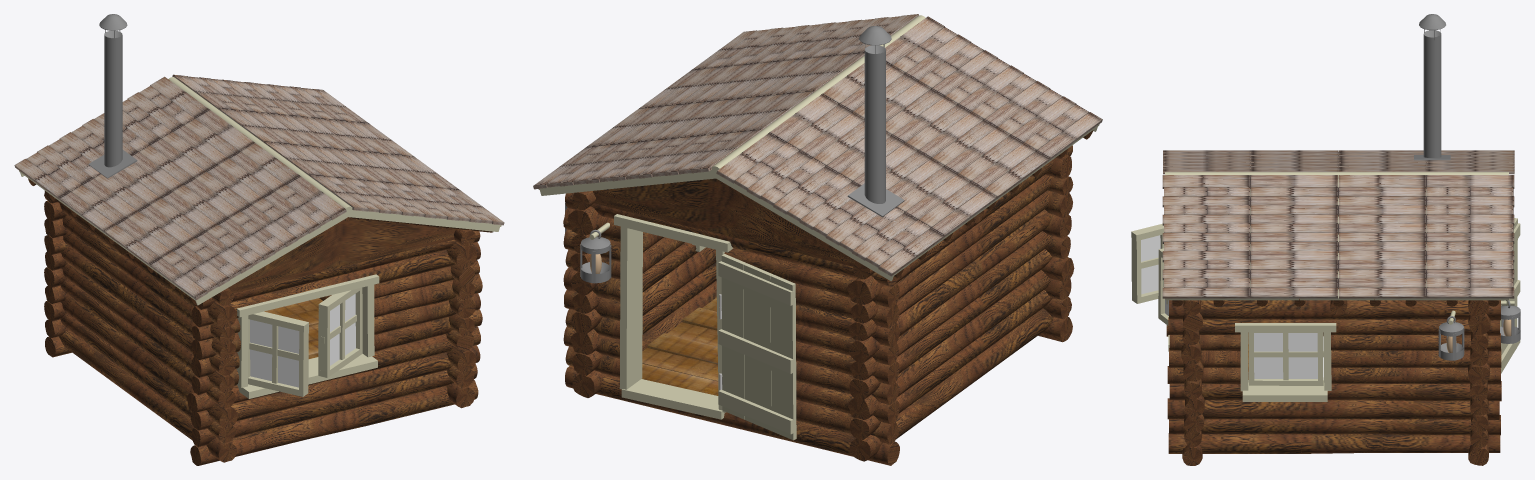
File: log_cabin.dae
3 views of the same model, side by side, from view 1: azimuth 30°, elevation 25°; view 2: azimuth 150°, elevation 25°; view 3: azimuth 270°, elevation 25° (orthographic). The views are drawn at different scales.
Parts seen in each view (by area): view 1: Box026.002, Object072.002, Object068.002, Object070.002, Object052.002, Object048.002, Object056.002, Object042.002, Object044.002, Cylinder077.002, Object046.002, Object038.002 (+77 smaller); view 2: Box025.002, Object052.002, Object048.002, Object042.002, Object099.002, Object018.002, Object044.002, Cylinder077.002, Object046.002, Object050.002, Object038.002, Object040.002 (+91 smaller); view 3: Object090.002, Object086.002, Object074.002, Object088.002, Object084.002, Object076.002, Object080.002, Plane002.002, Cylinder077.002, Object082.002, Box067.002, Box068.002 (+55 smaller).
Part boxes in pixels (left/top/right/bottom): Box026.002: left=228, top=218, right=455, bottom=293; Object072.002: left=190, top=379, right=478, bottom=465; Object068.002: left=191, top=345, right=480, bottom=430; Object070.002: left=191, top=364, right=477, bottom=447; Object052.002: left=45, top=329, right=237, bottom=462; Object048.002: left=61, top=295, right=237, bottom=428; Object056.002: left=191, top=242, right=480, bottom=327; Object042.002: left=61, top=246, right=235, bottom=375; Object044.002: left=62, top=263, right=234, bottom=392; Cylinder077.002: left=104, top=30, right=122, bottom=167; Object046.002: left=60, top=279, right=235, bottom=408; Object038.002: left=62, top=215, right=235, bottom=344; Box025.002: left=593, top=178, right=855, bottom=266; Object052.002: left=849, top=302, right=1071, bottom=461; Object048.002: left=848, top=256, right=1068, bottom=419; Object042.002: left=848, top=209, right=1052, bottom=362; Object099.002: left=619, top=226, right=642, bottom=389; Object018.002: left=565, top=365, right=899, bottom=465; Object044.002: left=850, top=231, right=1053, bottom=380; Cylinder077.002: left=864, top=45, right=885, bottom=203; Object046.002: left=849, top=236, right=1070, bottom=400; Object050.002: left=850, top=290, right=1052, bottom=439; Object038.002: left=850, top=174, right=1051, bottom=323; Object040.002: left=849, top=190, right=1049, bottom=340; Object090.002: left=1168, top=433, right=1500, bottom=453; Object086.002: left=1167, top=398, right=1499, bottom=419; Object074.002: left=1169, top=300, right=1500, bottom=320; Object088.002: left=1169, top=415, right=1500, bottom=435; Object084.002: left=1169, top=381, right=1501, bottom=401; Object076.002: left=1168, top=317, right=1499, bottom=335; Object080.002: left=1331, top=349, right=1501, bottom=367; Plane002.002: left=1254, top=333, right=1317, bottom=378; Cylinder077.002: left=1423, top=30, right=1441, bottom=157; Object082.002: left=1331, top=368, right=1500, bottom=384; Box067.002: left=1162, top=175, right=1338, bottom=188; Box068.002: left=1339, top=175, right=1514, bottom=188.
Bounding box in the file's own units: 11.27 × 12.56 × 12.09.
Materials: 240 (154 with a texture image).
